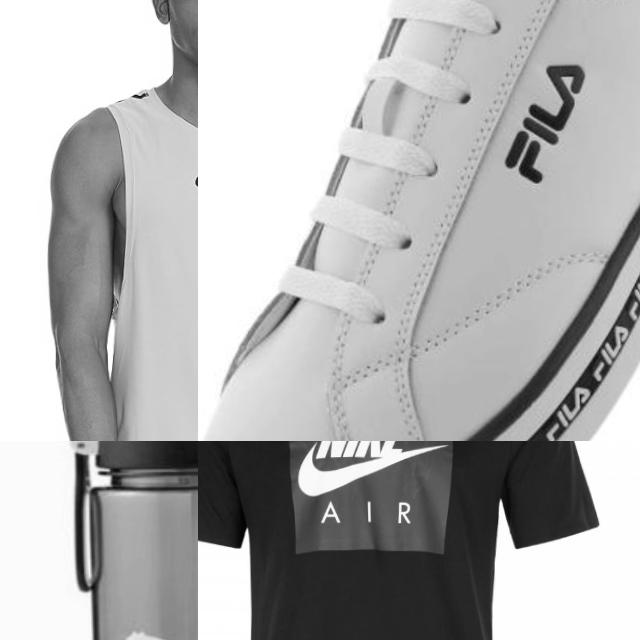FILA_original: (490, 58, 593, 189)
NIKE_original: (285, 441, 455, 501), (179, 156, 198, 199)
